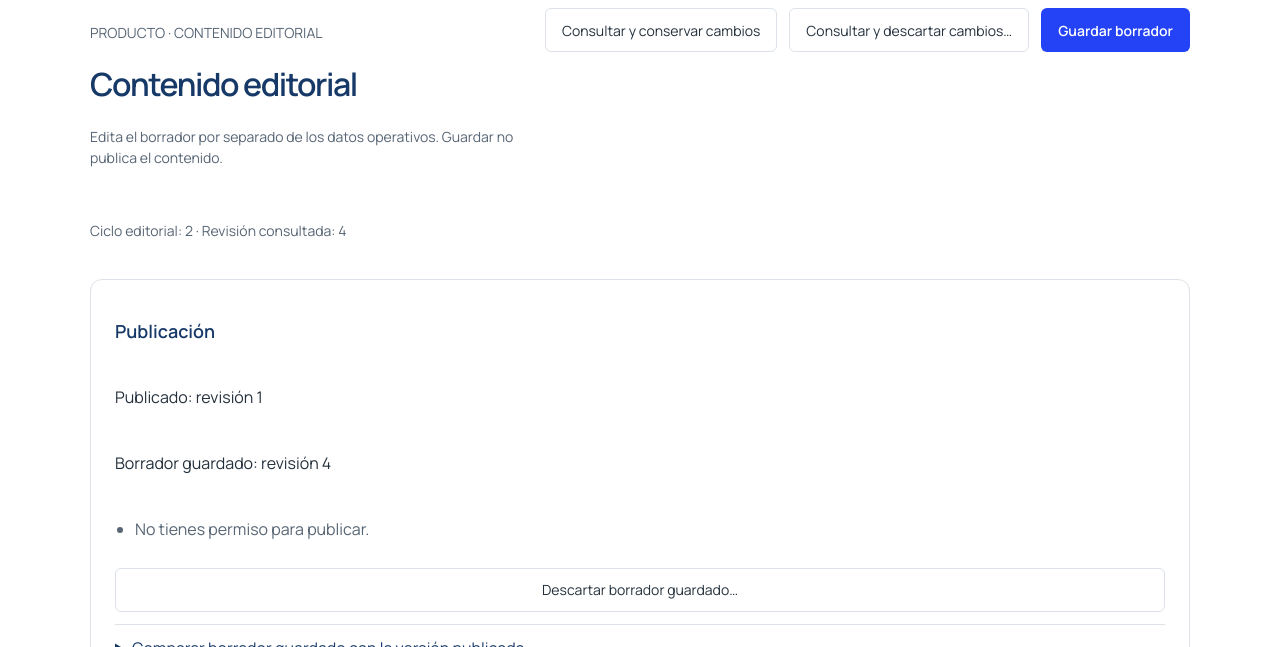
Scenario: editorial publication public UI › shows missing permission only to writers and confirms saved-draft discard separately
Expected: the element that starts with "Publicación" shows "No tienes permiso para publicar.", [135, 518, 369, 540]
Click the button "Descartar borrador guardado…" at (640, 590), box [115, 568, 1165, 612]
(page scrolled)
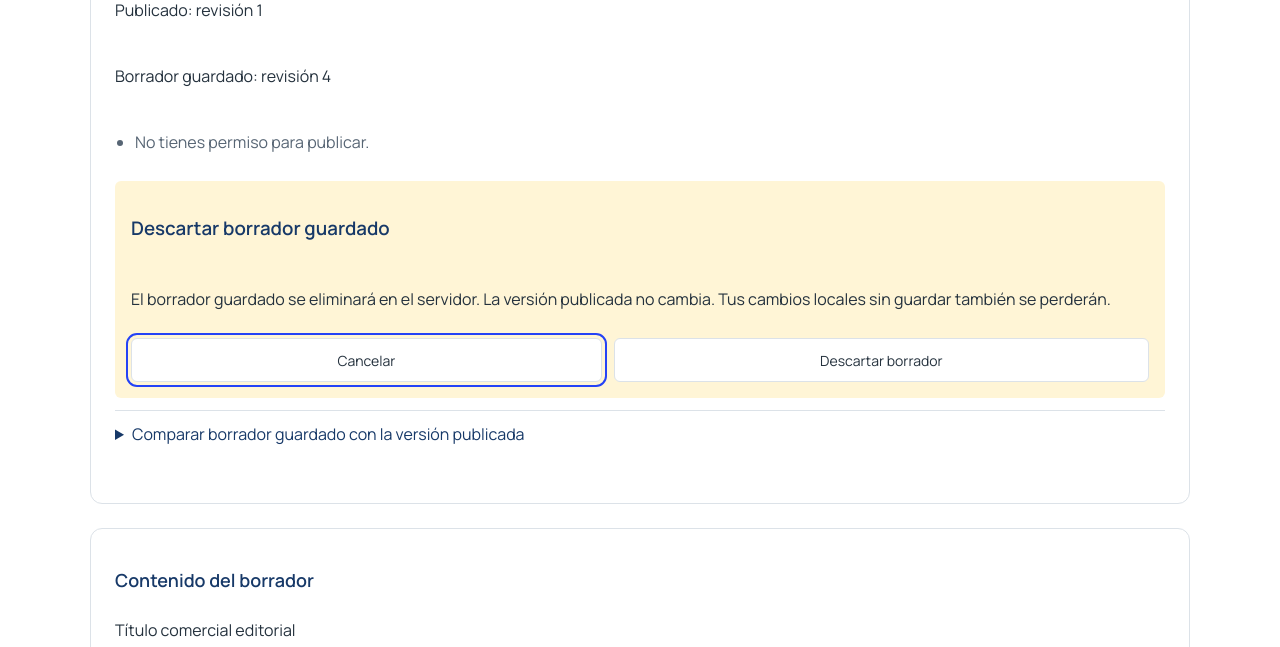
Expected: the element that starts with "Descartar borrador guardado" shows "El borrador guardado se eliminará en el servidor. La versión publicada no cambia. Tus cambios locales sin guardar también se perderán.", [131, 288, 1111, 310]
Click the button "Cancelar" at (366, 360), box [131, 338, 602, 382]
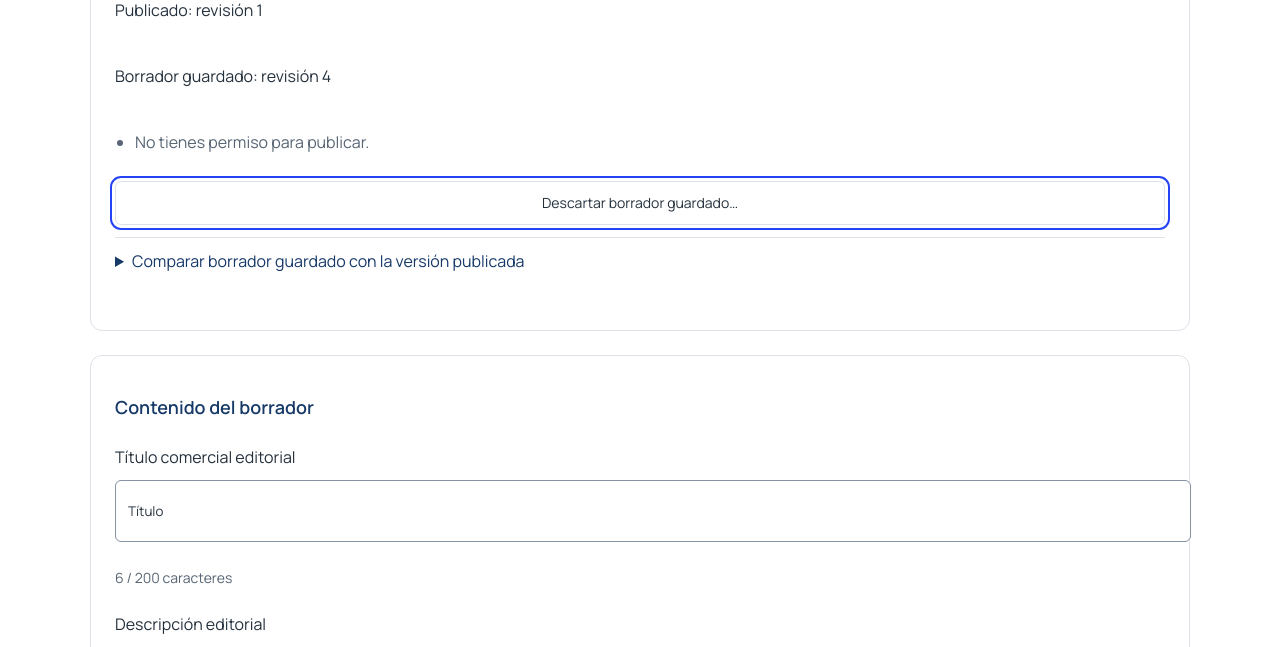
Click the button "Descartar borrador guardado…" at (640, 203), box [115, 181, 1165, 225]
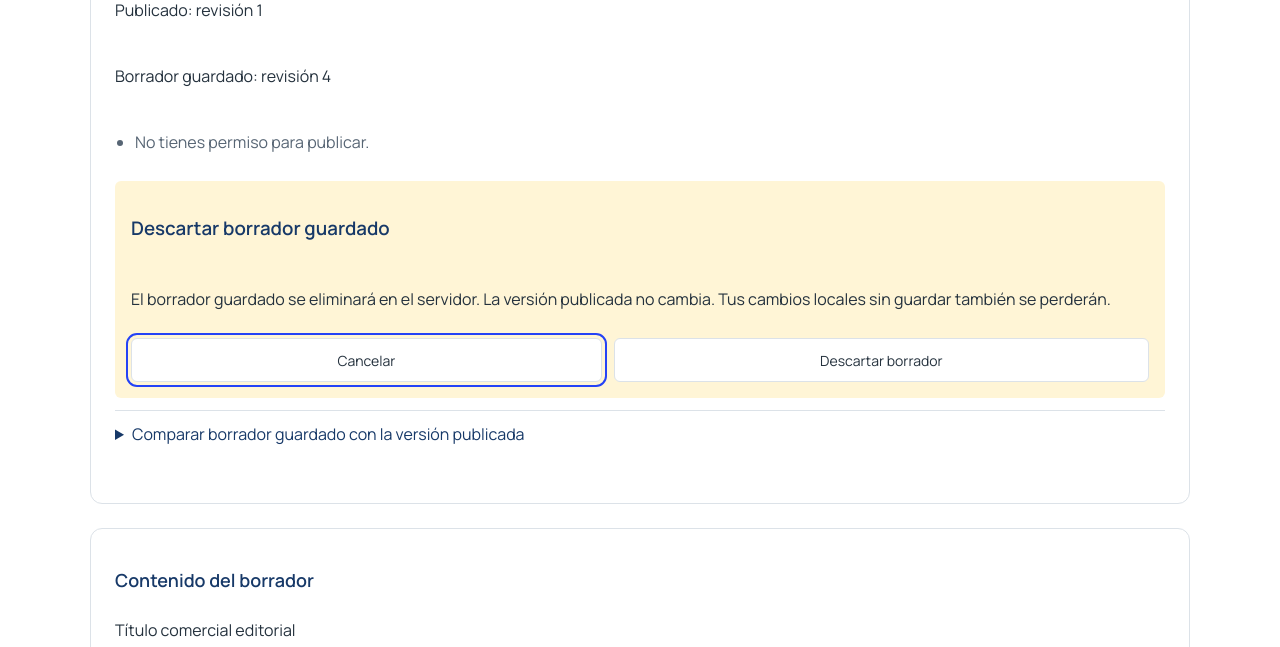
Click the button "Descartar borrador" at (881, 360), box [614, 338, 1149, 382]
(page scrolled)
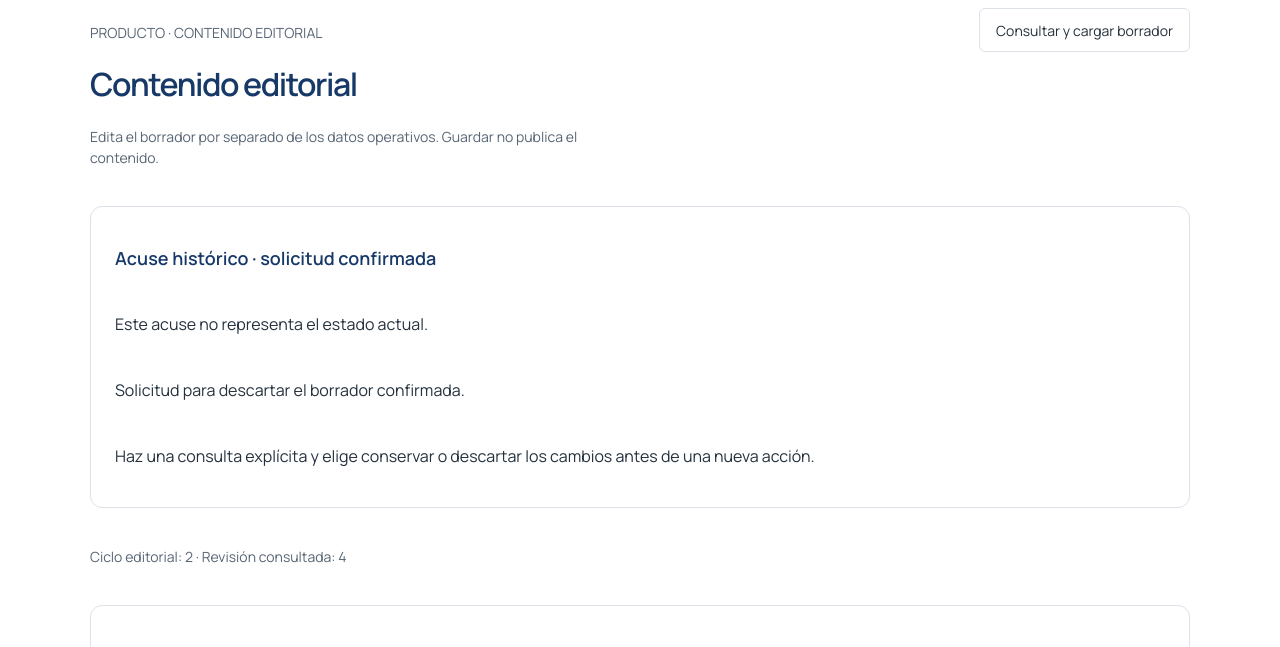
Expected: the button "Consultar y cargar borrador" is shown, [979, 8, 1190, 52]
Expected: the text "Solicitud para descartar el borrador confirmada." is shown, [115, 379, 465, 401]
